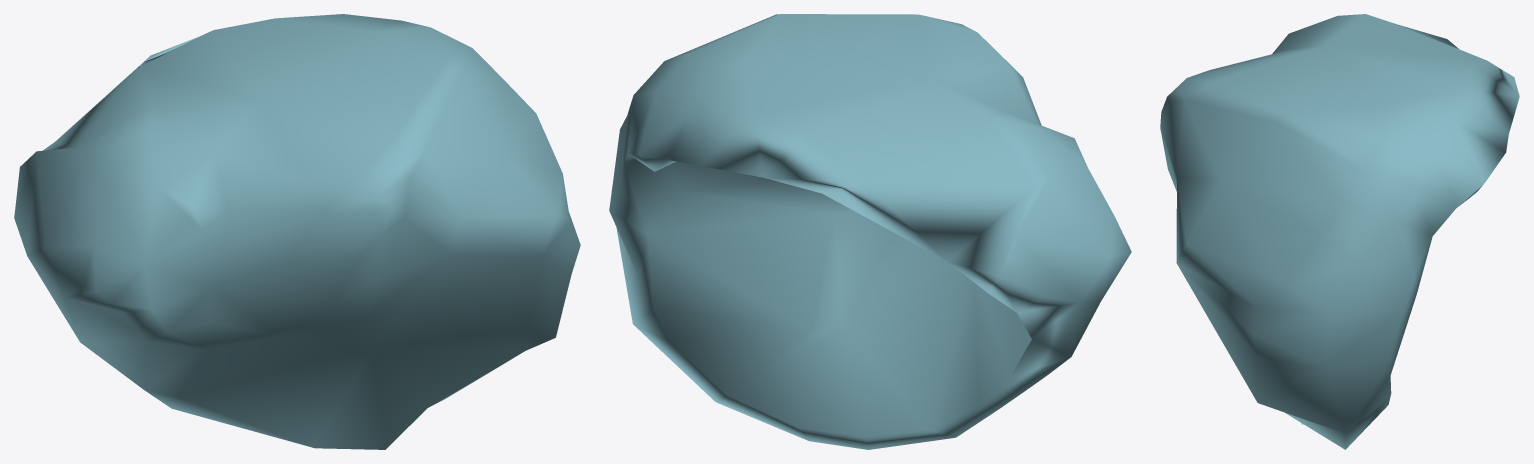
3 renders of one model, left to right at view 1: azimuth 30°, elevation 25°; view 2: azimuth 150°, elevation 25°; view 3: azimuth 270°, elevation 25°, orthographic. The views are drawn at different scales.
Visible parts, largest first — view 1: 左侧颞下颌关节盘; view 2: 左侧颞下颌关节盘; view 3: 左侧颞下颌关节盘.
Part boxes in pixels (<box>): 左侧颞下颌关节盘: <box>14,14,580,449</box>; 左侧颞下颌关节盘: <box>609,14,1131,449</box>; 左侧颞下颌关节盘: <box>1160,14,1519,449</box>.
Bounding box in the file's own units: 0.0285 × 0.0205 × 0.0198.
